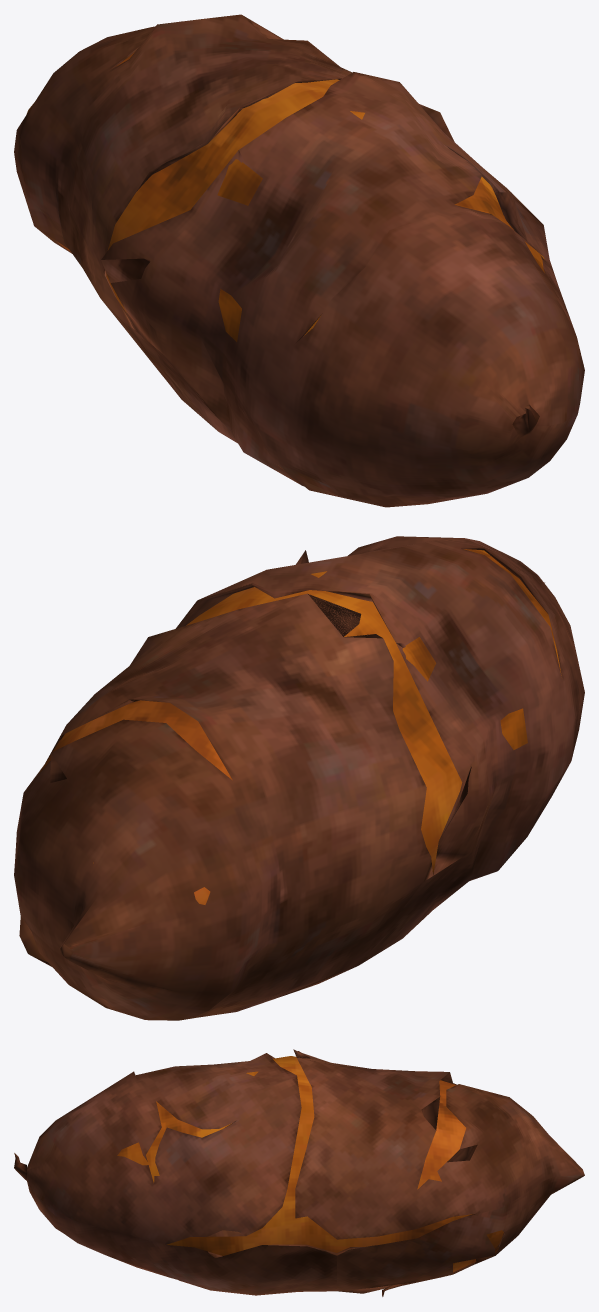
Rendered from ref_bbqpotato.fbx.
3 views of the same model, one above another, from view 1: azimuth 30°, elevation 25°; view 2: azimuth 150°, elevation 25°; view 3: azimuth 270°, elevation 25° (orthographic). The views are drawn at different scales.
Visible parts, largest first — view 1: ref_bbqpotato; view 2: ref_bbqpotato; view 3: ref_bbqpotato.
Part boxes in pixels (x1,y1,x2,y2): ref_bbqpotato: (14,14,584,507); ref_bbqpotato: (14,536,584,1020); ref_bbqpotato: (14,1049,584,1296).
Size of the model in its own units: 45.56 by 42.89 by 100.
Materials: 1 (1 with a texture image).
